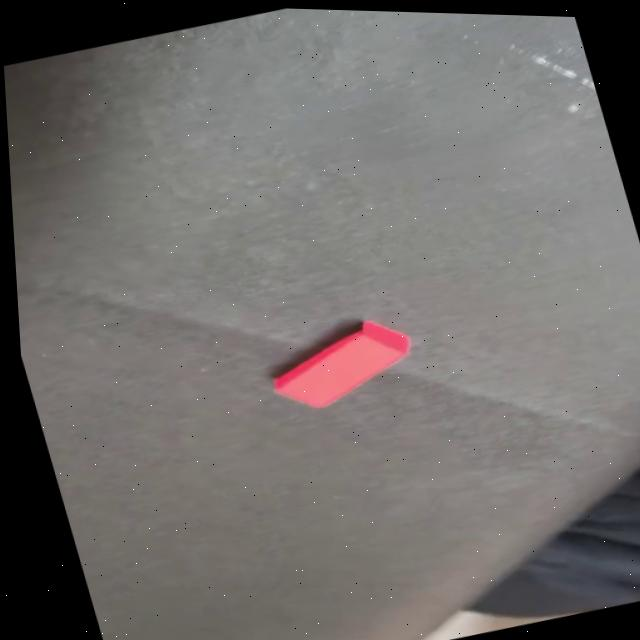red block: (255, 308, 426, 423)
